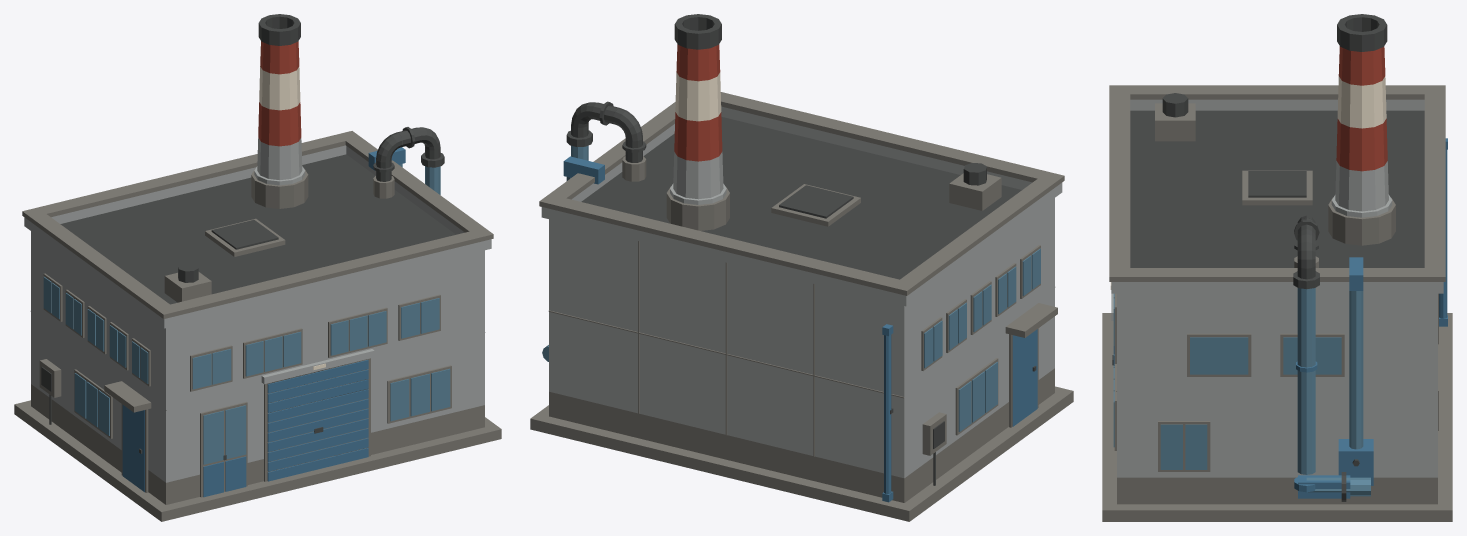
File: factory building b.fbx
3 views of the same model, side by side, from view 1: azimuth 30°, elevation 25°; view 2: azimuth 150°, elevation 25°; view 3: azimuth 270°, elevation 25° (orthographic). The views are drawn at different scales.
Visible parts, largest first — view 1: Factory_Building_B; view 2: Factory_Building_B; view 3: Factory_Building_B.
Part boxes in pixels (left/top/right/bottom): Factory_Building_B: left=14, top=14, right=501, bottom=521; Factory_Building_B: left=530, top=14, right=1073, bottom=521; Factory_Building_B: left=1102, top=14, right=1452, bottom=521.
Size of the model in its own units: 882 by 817 by 600.
